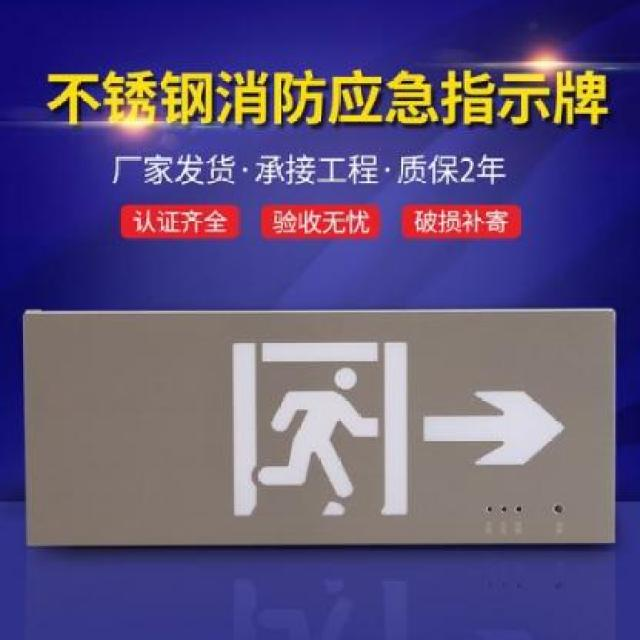exit_sign: (17, 298, 616, 548)
